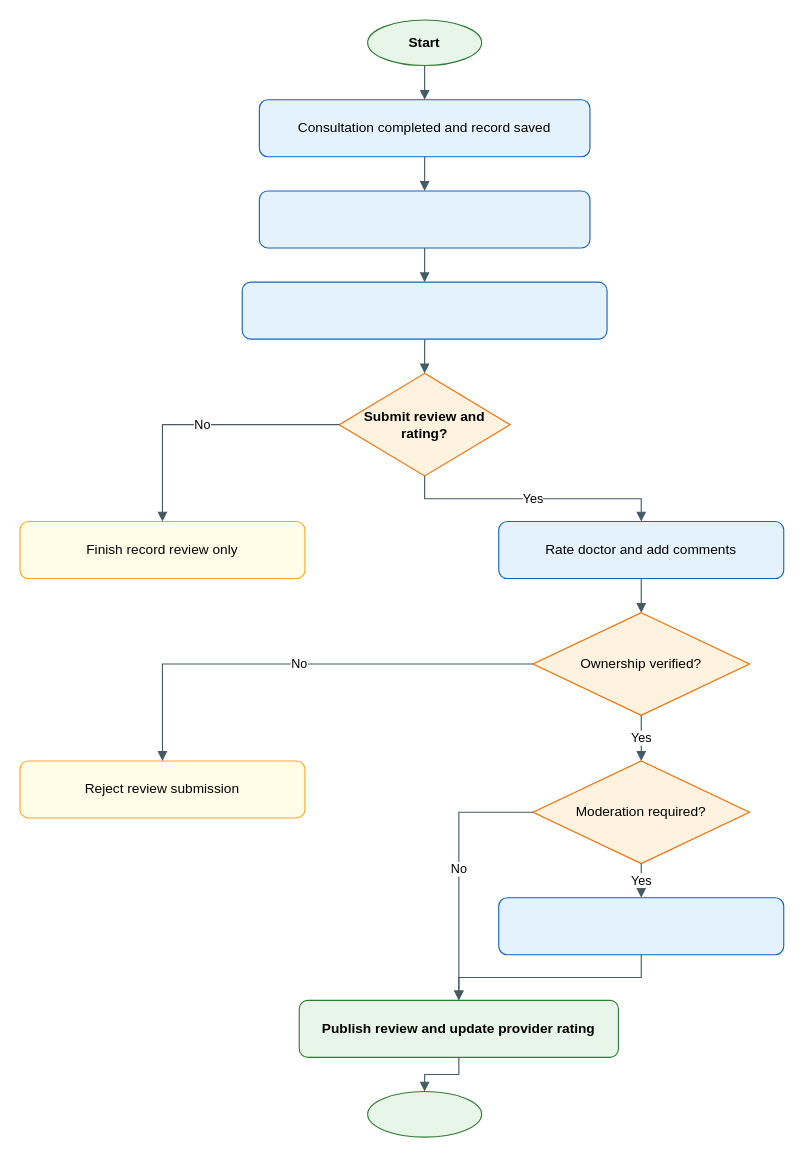
Some shapes in this 804 by 1157 pixel diagram are drawn without their labels. Here are the shapes that lost their labels. From the top down, the box of each, then its label:
(258, 190, 590, 248): Patient opens medical records
(241, 281, 607, 339): View prescriptions, notes, reports, and uploads
(498, 897, 784, 955): Moderation queue reviews submission
(367, 1090, 482, 1137): End
